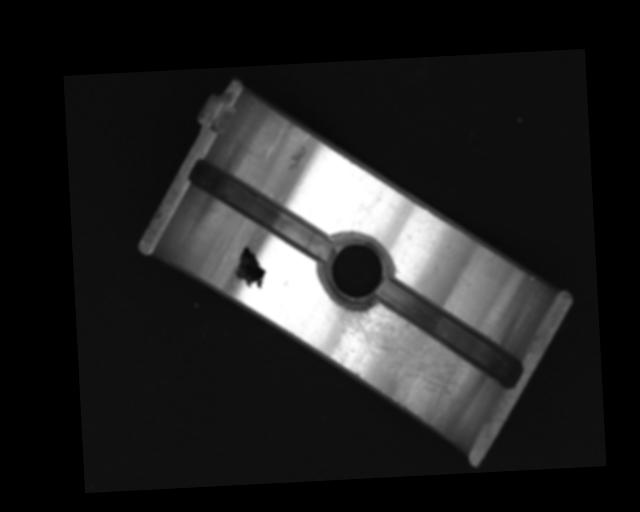blot: (233, 243, 268, 290)
bruise: (285, 144, 309, 173)
gap: (376, 271, 523, 392), (187, 151, 330, 265)
hole: (316, 231, 396, 311)
scratch: (335, 294, 471, 433)
